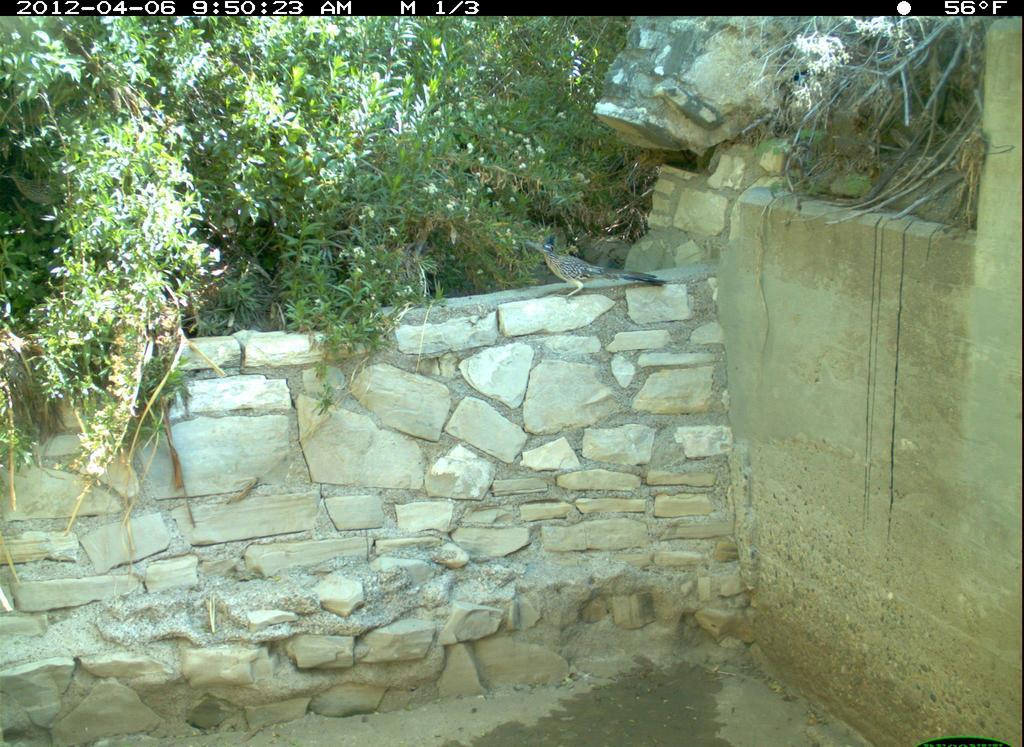bird: (522, 232, 674, 306)
